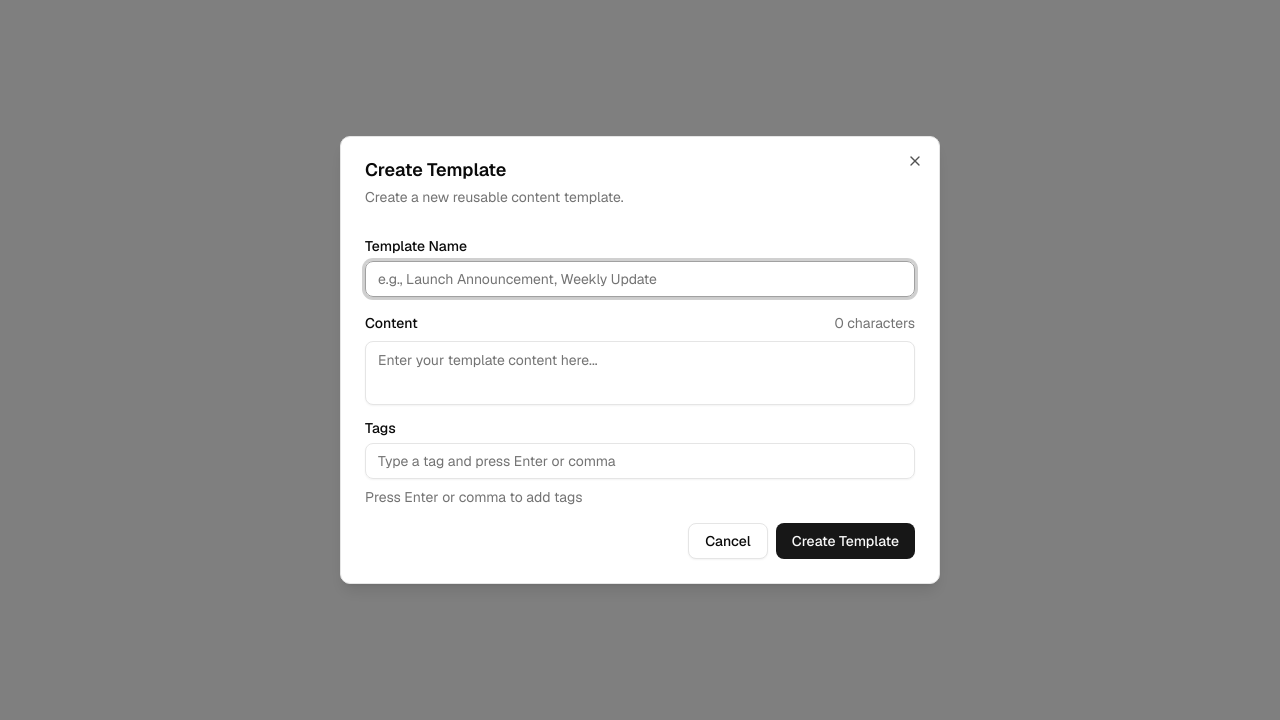
Scenario: TemplateFormModal - Tag Input › should remove tag when X button is clicked
In the field with placeholder "Type a tag and press Enter or comma": [640, 461] box [365,443,915,479], type "removeme"
Then press Enter
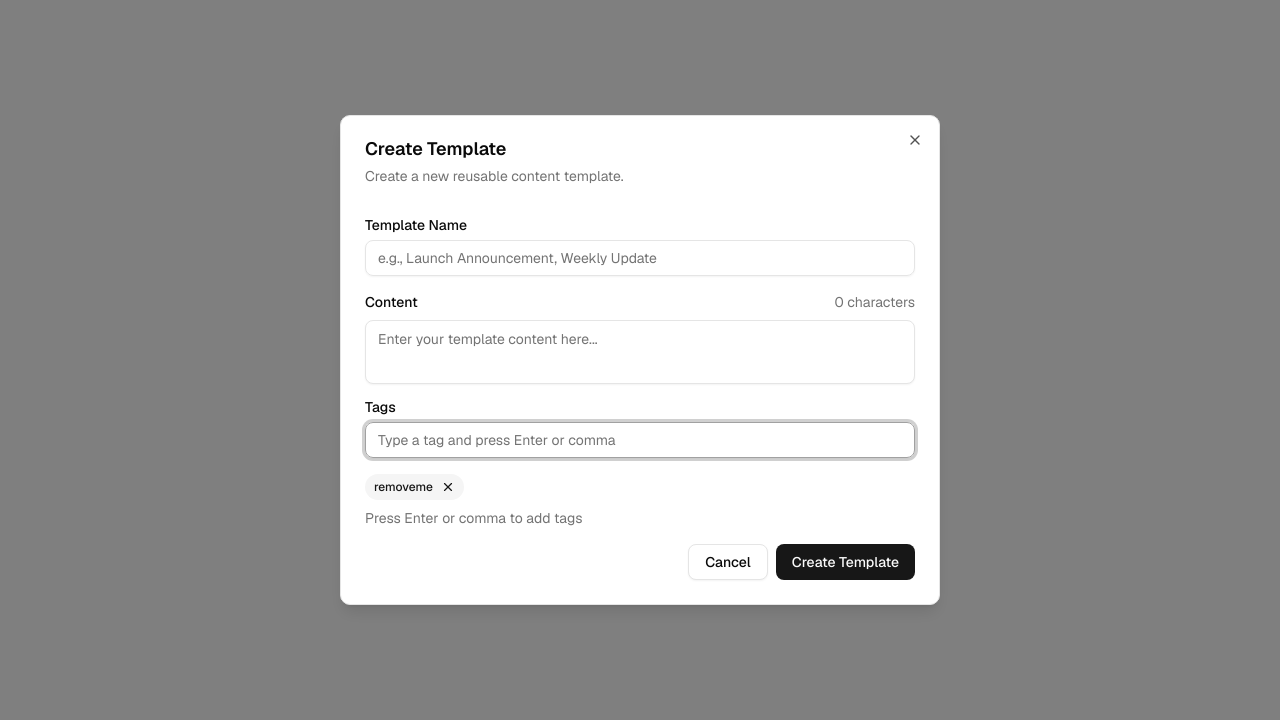
Expected: the text "removeme" is shown, [374,479,433,495]
Click remove button
Click the button named "Remove removeme tag": [448, 487] box [441,480,455,494]
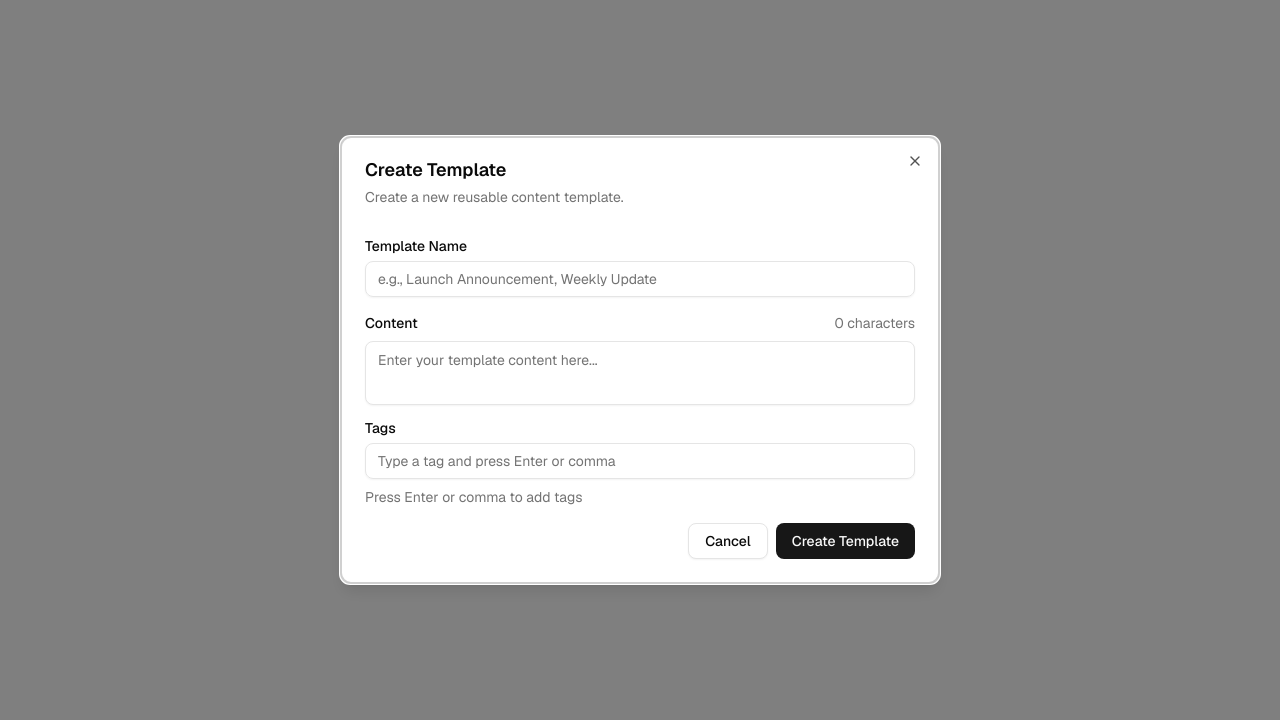
Expected: the text "removeme" is gone
